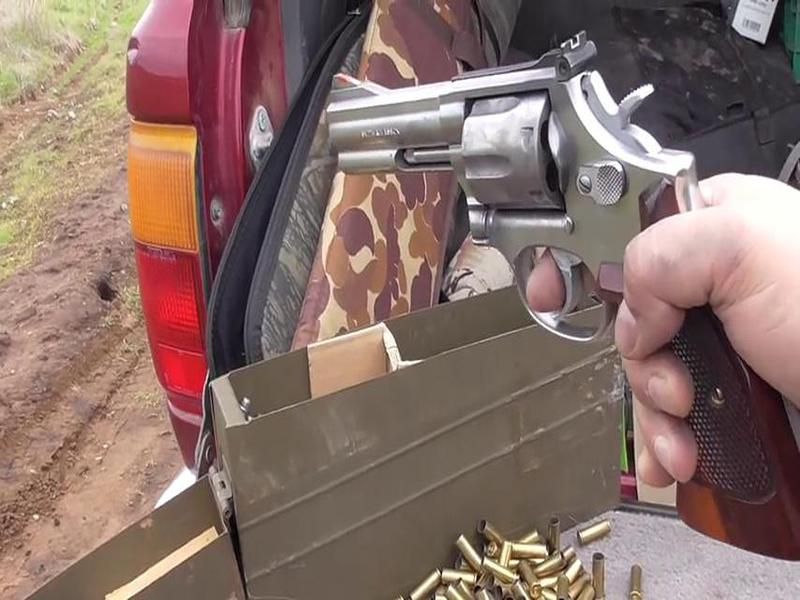Revolver: (327, 32, 742, 472)
